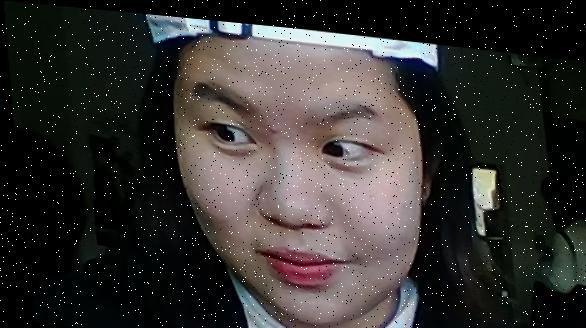eye: (317, 131, 340, 154), (212, 121, 231, 139)
iris: (317, 131, 366, 152), (208, 118, 252, 141)
